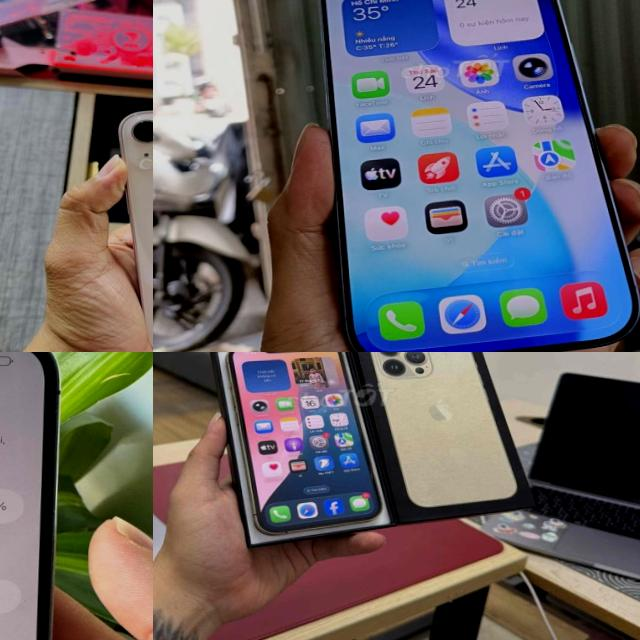gen_12_13: (225, 352, 382, 536), (111, 100, 153, 352)
gen_14: (0, 352, 72, 640)
gen_17: (312, 0, 640, 352)
